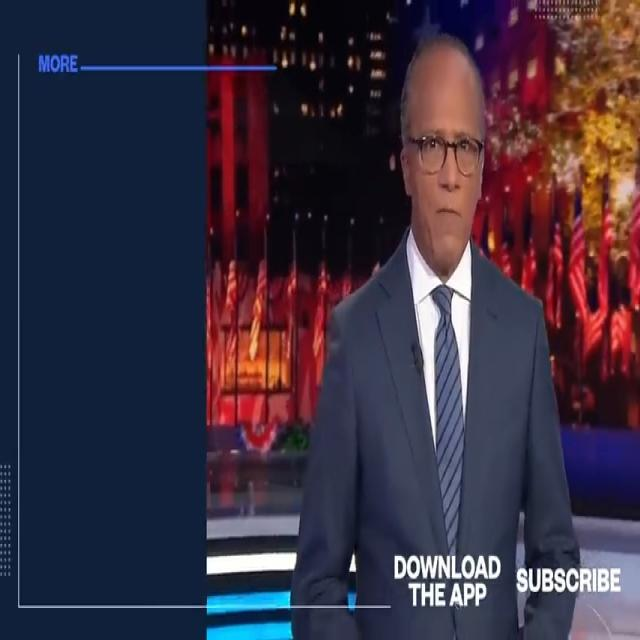non-fight: (288, 21, 586, 640)
